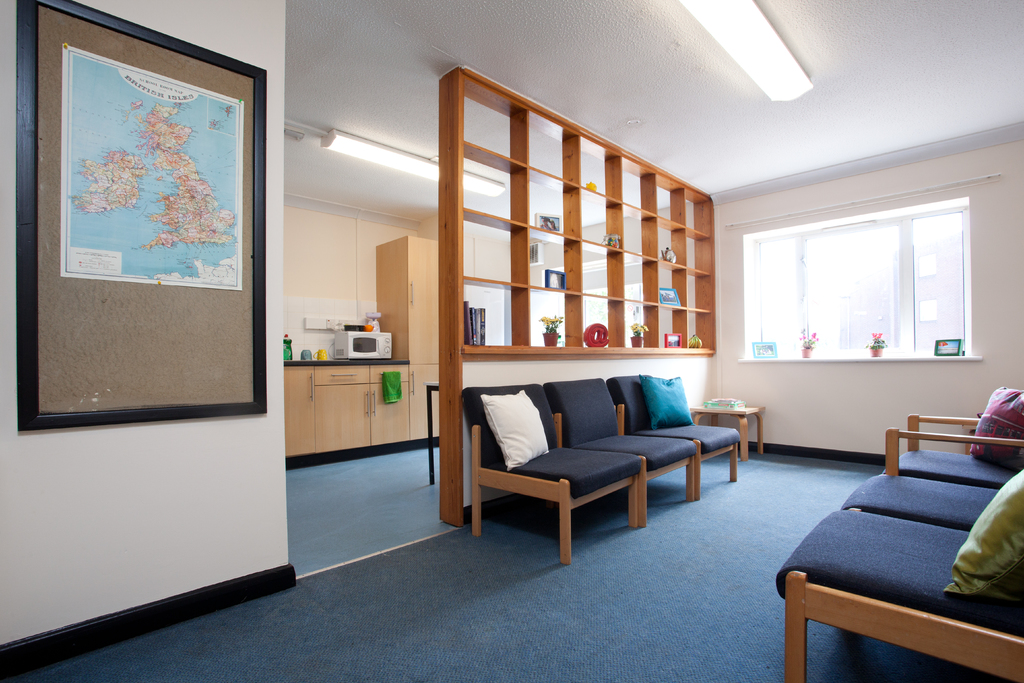Couch: (769, 415, 1023, 682), (431, 362, 746, 561)
